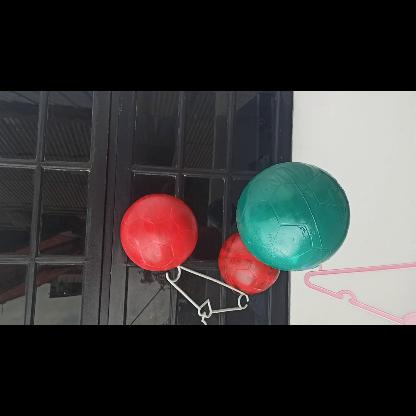red_ball: (118, 192, 196, 272)
